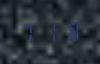eight: (61, 19, 81, 42)
one: (40, 20, 60, 43)
seven: (18, 21, 38, 44)
